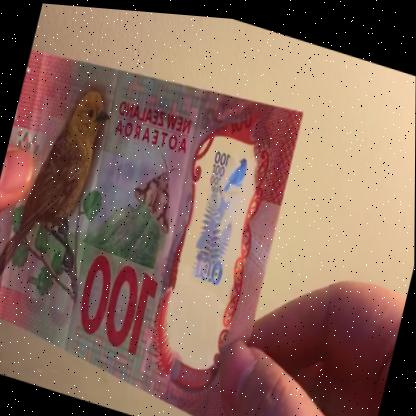100B: (172, 133, 259, 335)
